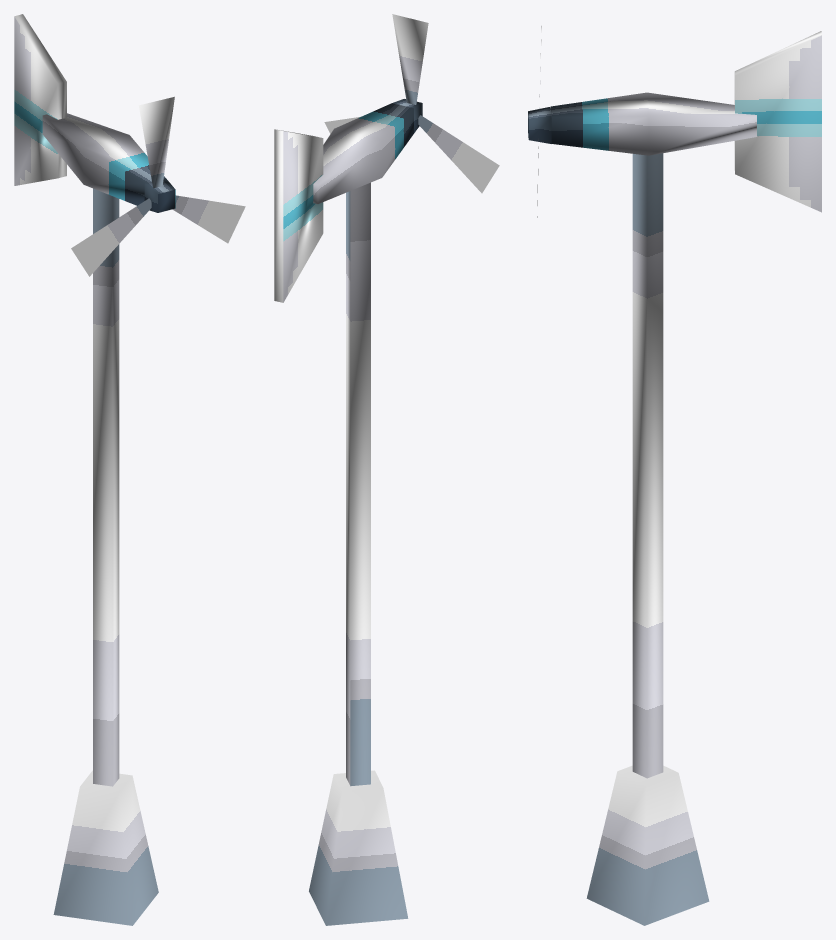
The model's file is EditedWindmill 1.obj.
The picture shows the model from 3 angles, left to right: view 1: azimuth 30°, elevation 25°; view 2: azimuth 150°, elevation 25°; view 3: azimuth 270°, elevation 25°; orthographic projection. The views are drawn at different scales.
Visible parts, largest first — view 1: Windmill-post_Windmill, Windmill-head_Windmill.002, Windmill.fan_Windmill.001; view 2: Windmill-post_Windmill, Windmill-head_Windmill.002, Windmill.fan_Windmill.001; view 3: Windmill-post_Windmill, Windmill-head_Windmill.002, Windmill.fan_Windmill.001.
Boxes of the visible parts, x1=… form: Windmill-post_Windmill: x1=53, y1=188, x2=158, y2=925; Windmill-head_Windmill.002: x1=14, y1=14, x2=165, y2=205; Windmill.fan_Windmill.001: x1=71, y1=96, x2=245, y2=276; Windmill-post_Windmill: x1=309, y1=182, x2=408, y2=925; Windmill-head_Windmill.002: x1=274, y1=103, x2=413, y2=302; Windmill.fan_Windmill.001: x1=324, y1=14, x2=499, y2=193; Windmill-post_Windmill: x1=586, y1=153, x2=709, y2=925; Windmill-head_Windmill.002: x1=551, y1=31, x2=821, y2=212; Windmill.fan_Windmill.001: x1=528, y1=26, x2=551, y2=217.
Bounding box in the file's own units: 19.32 × 89.01 × 27.05.
Materials: 1 (1 with a texture image).
